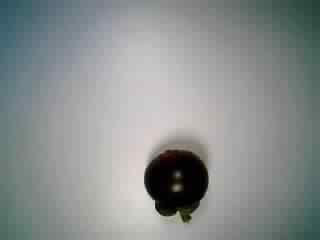mangosteen: (132, 147, 214, 224)
